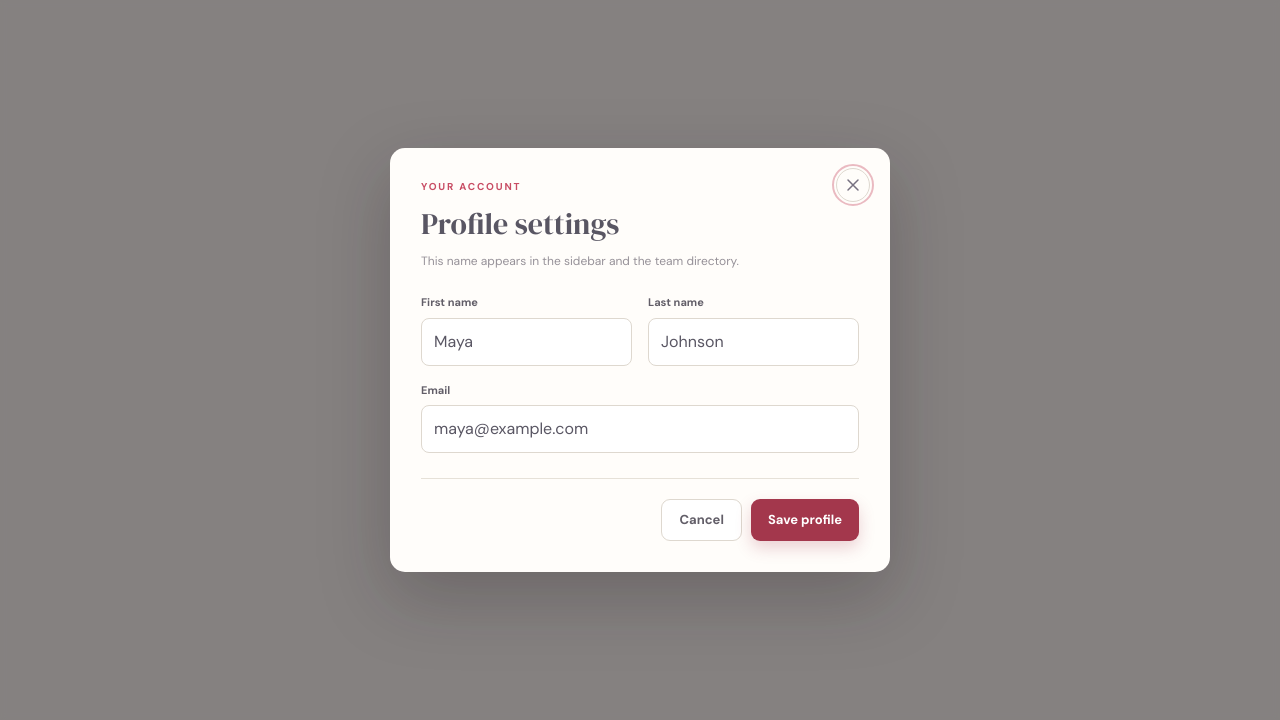
Test case: ProfileDialog › surfaces a save error and stays open
This screenshot has width=1280, height=720.
Step 1. Click the button "Save profile" → (805, 520), box top-left (751, 499), bottom-right (859, 541)
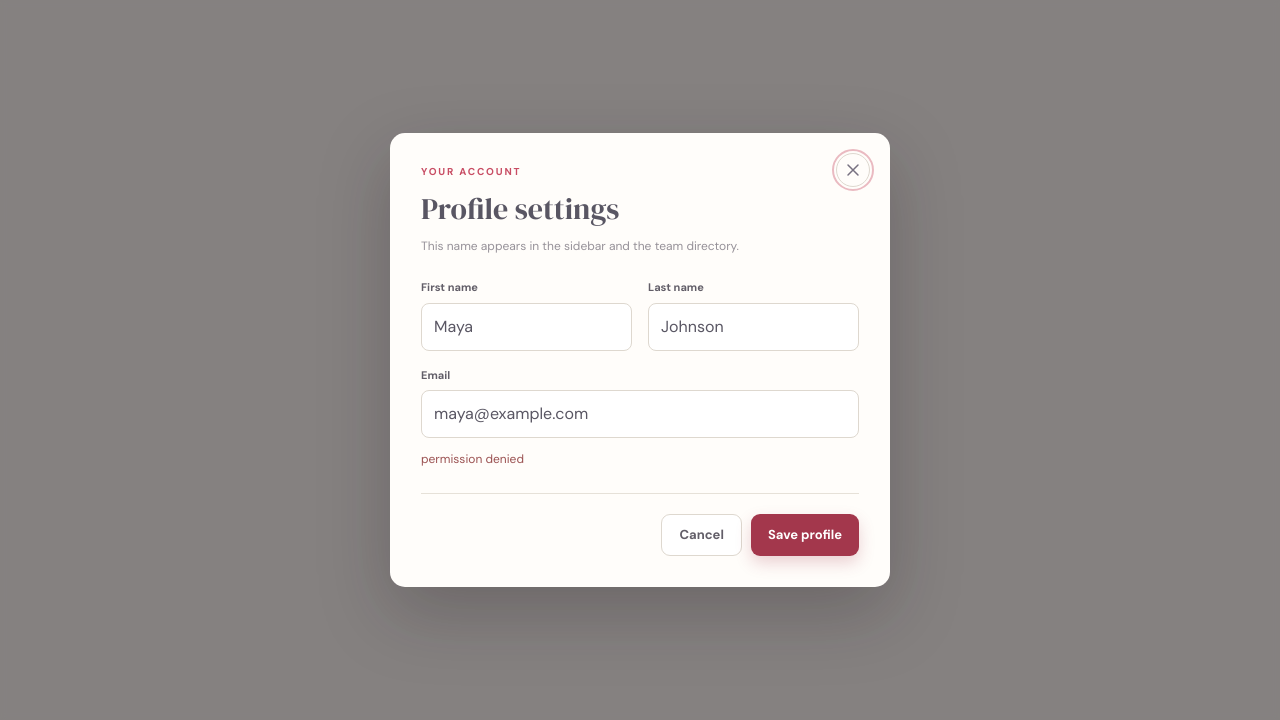
Check: the message reads "permission denied", box top-left (421, 451), bottom-right (524, 467)
